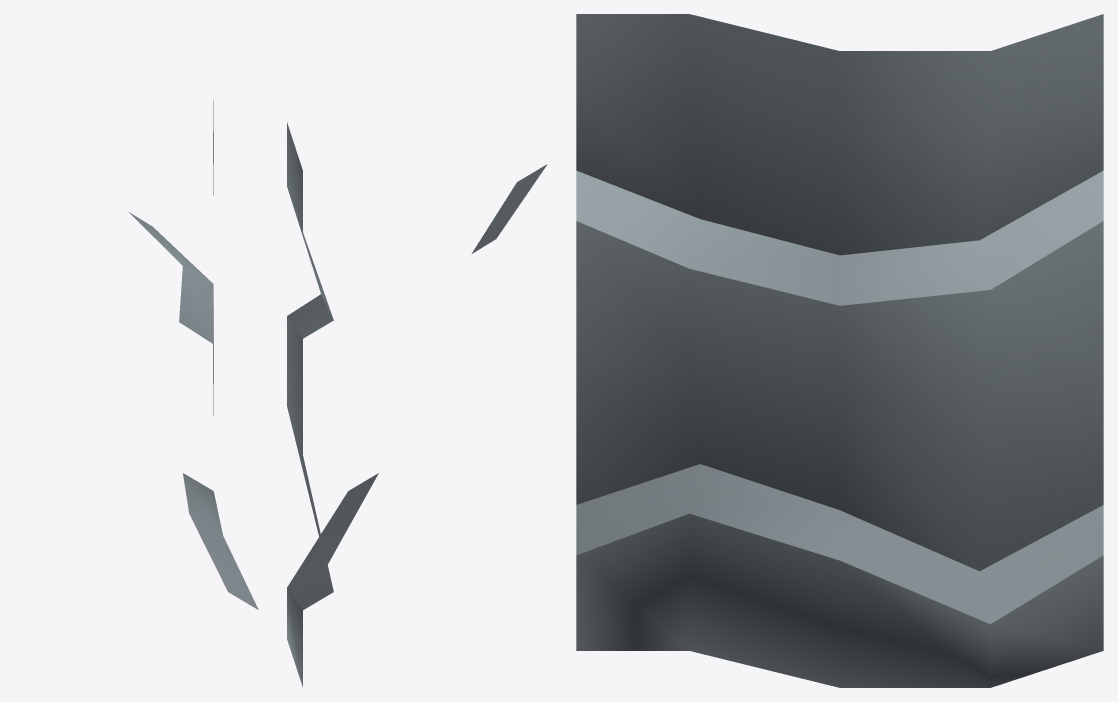
Rendered from Hill_Cliff_Tall_F_Side_Color1.gltf.
3 renders of one model, left to right at view 1: azimuth 30°, elevation 25°; view 2: azimuth 150°, elevation 25°; view 3: azimuth 270°, elevation 25°, orthographic. The views are drawn at different scales.
Visible parts, largest first — view 1: Hill_Cliff_Tall_F_Side_Color1; view 2: Hill_Cliff_Tall_F_Side_Color1; view 3: Hill_Cliff_Tall_F_Side_Color1.
Boxes of the visible parts, <box> form: Hill_Cliff_Tall_F_Side_Color1: <box>129,100,258,609</box>; Hill_Cliff_Tall_F_Side_Color1: <box>287,122,547,687</box>; Hill_Cliff_Tall_F_Side_Color1: <box>576,14,1103,687</box>.
Size of the model in its own units: 0.75 by 4 by 3.
1 material, 1 textured.
